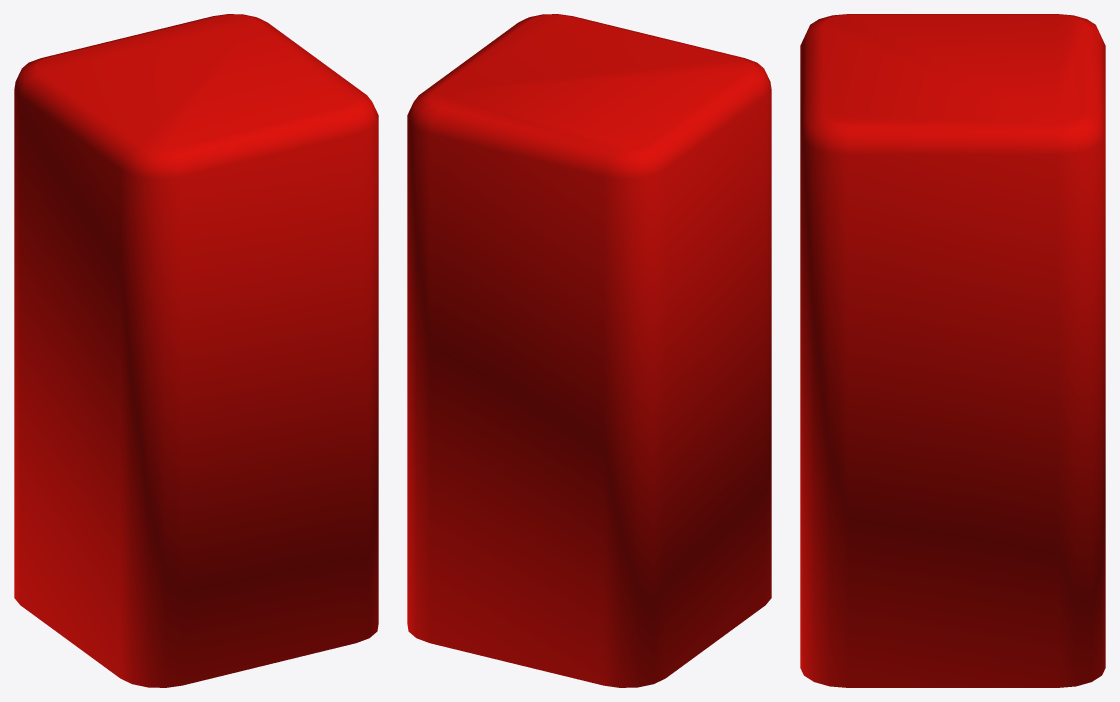
The model's file is SquareButtonTop.fbx.
3 views of the same model, side by side, from view 1: azimuth 30°, elevation 25°; view 2: azimuth 150°, elevation 25°; view 3: azimuth 270°, elevation 25° (orthographic). The views are drawn at different scales.
Visible parts, largest first — view 1: SquareButtonTop; view 2: SquareButtonTop; view 3: SquareButtonTop.
Part boxes in pixels (bbox=[...]): SquareButtonTop: bbox=[14, 14, 378, 687]; SquareButtonTop: bbox=[407, 14, 771, 687]; SquareButtonTop: bbox=[800, 14, 1105, 687].
Bounding box in the file's own units: 200 × 400 × 200.
